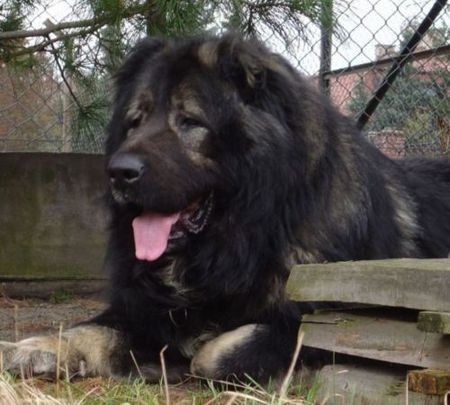cau_ovcharka: (0, 23, 450, 390)
